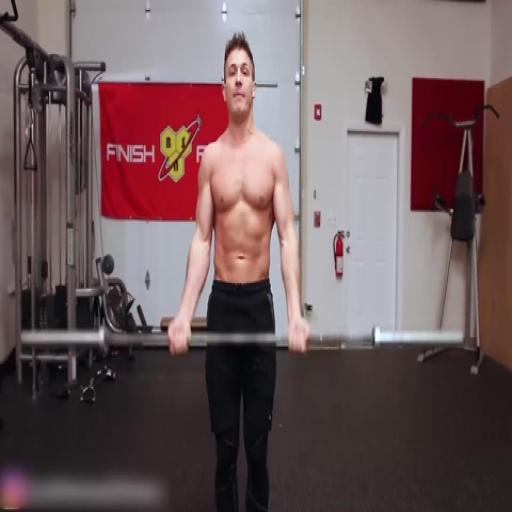exercise: (164, 30, 313, 510)
